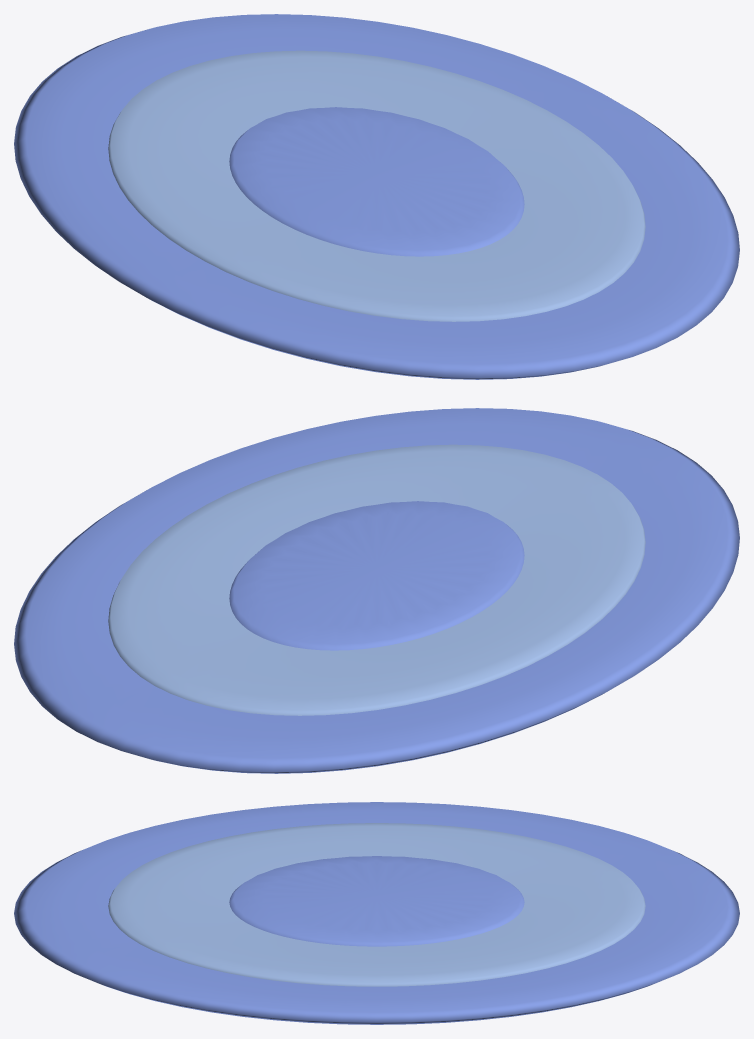
The model's file is lago4_v9.fbx.
3 renders of one model, top to bottom at view 1: azimuth 30°, elevation 25°; view 2: azimuth 150°, elevation 25°; view 3: azimuth 270°, elevation 25°, orthographic. The views are drawn at different scales.
Visible parts, largest first — view 1: Cylinder.005, Cylinder.006, Cylinder.007; view 2: Cylinder.005, Cylinder.006, Cylinder.007; view 3: Cylinder.005, Cylinder.006, Cylinder.007.
Boxes of the visible parts, x1,y1,x2,y2 form: Cylinder.005: [14, 14, 739, 379]; Cylinder.006: [108, 50, 645, 321]; Cylinder.007: [229, 107, 524, 256]; Cylinder.005: [14, 408, 739, 773]; Cylinder.006: [108, 444, 645, 715]; Cylinder.007: [229, 501, 524, 650]; Cylinder.005: [14, 802, 739, 1024]; Cylinder.006: [108, 823, 645, 986]; Cylinder.007: [229, 856, 524, 946].
Bounding box in the file's own units: 2740 × 153 × 3860.
